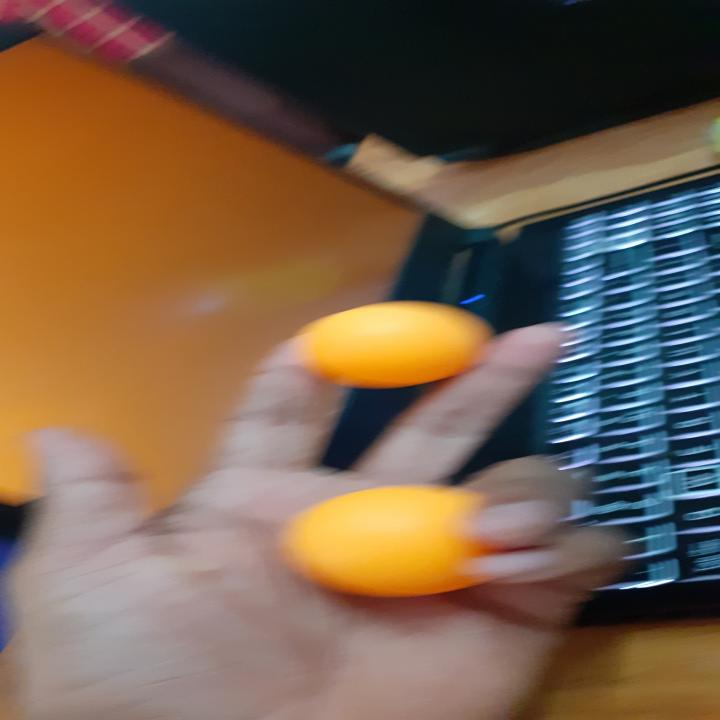orange: (274, 483, 496, 600), (308, 302, 489, 389)
